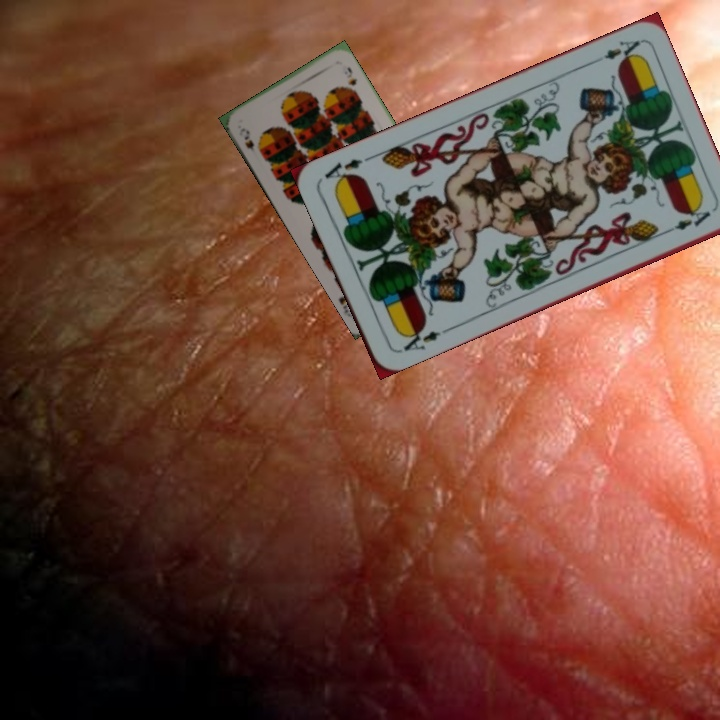EA: (394, 321, 451, 356), (586, 36, 643, 67)
S9: (235, 124, 257, 154)
